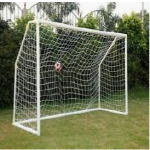goals: (11, 17, 132, 136)
